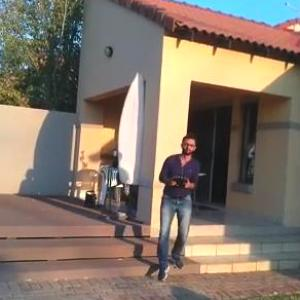follow: (151, 130, 200, 278)
